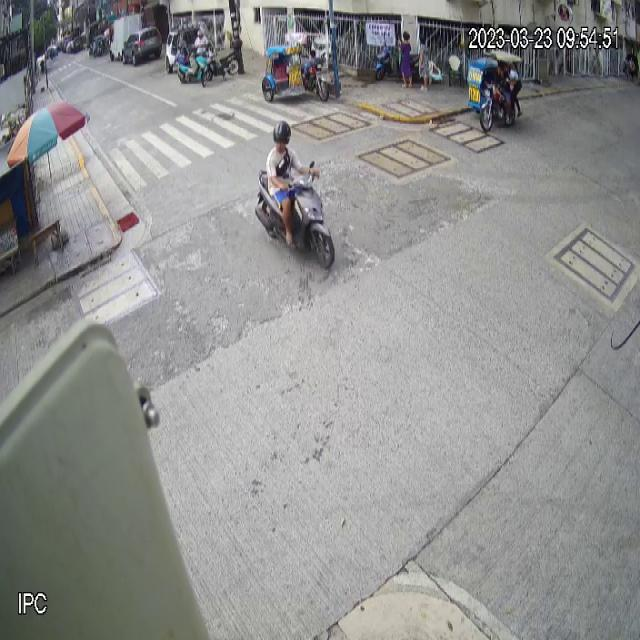Motorcycle: (253, 160, 338, 272)
Tricycle: (467, 49, 524, 133), (262, 32, 330, 102)
